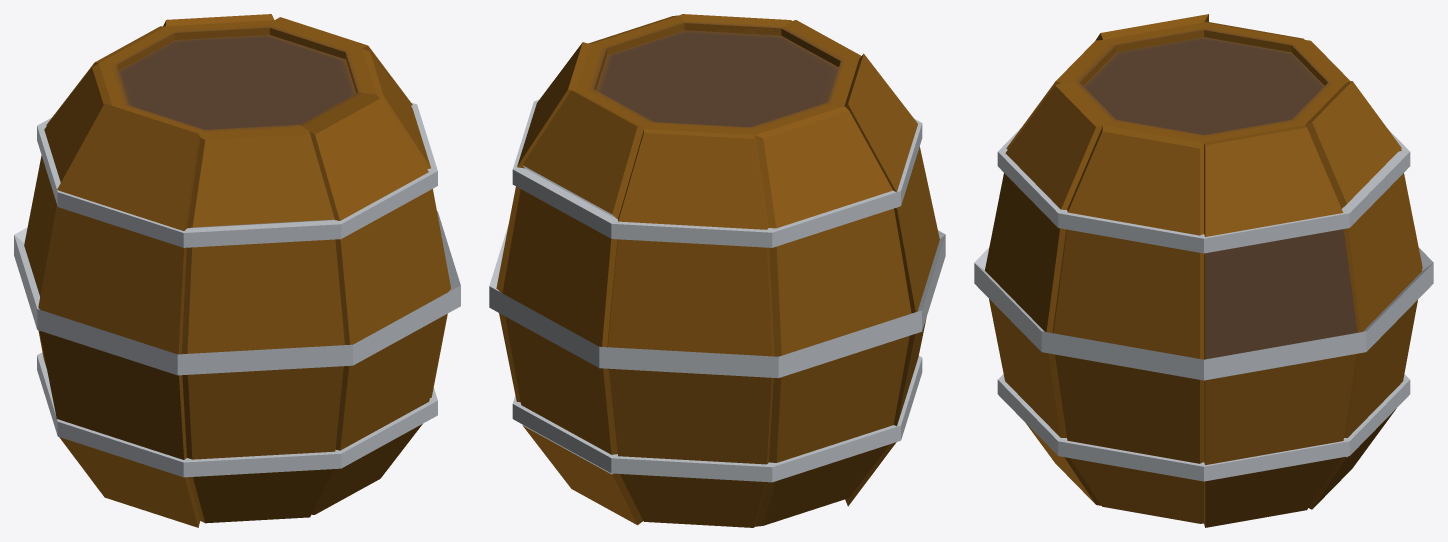
File: caja.obj
3 views of the same model, side by side, from view 1: azimuth 30°, elevation 25°; view 2: azimuth 150°, elevation 25°; view 3: azimuth 270°, elevation 25° (orthographic). The views are drawn at different scales.
Visible parts, largest first — view 1: caja_Cylinder_Cylinder.001; view 2: caja_Cylinder_Cylinder.001; view 3: caja_Cylinder_Cylinder.001.
Boxes of the visible parts, x1=… form: caja_Cylinder_Cylinder.001: x1=14, y1=14, x2=460, y2=527; caja_Cylinder_Cylinder.001: x1=489, y1=14, x2=945, y2=527; caja_Cylinder_Cylinder.001: x1=974, y1=14, x2=1433, y2=527.
Size of the model in its own units: 4.4 by 4.14 by 4.4.
Materials: 1 (1 with a texture image).
